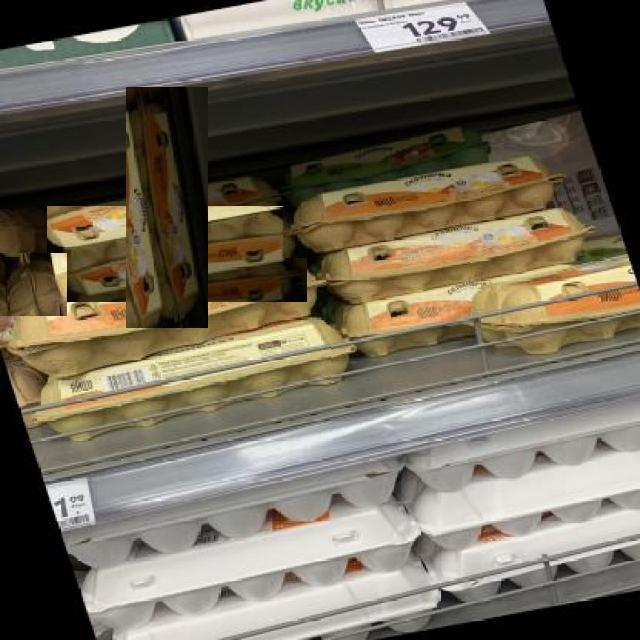Egg: (0, 251, 331, 383), (283, 147, 577, 258), (309, 202, 606, 309), (46, 205, 307, 302), (125, 87, 208, 328), (470, 259, 639, 364), (0, 252, 67, 316)
